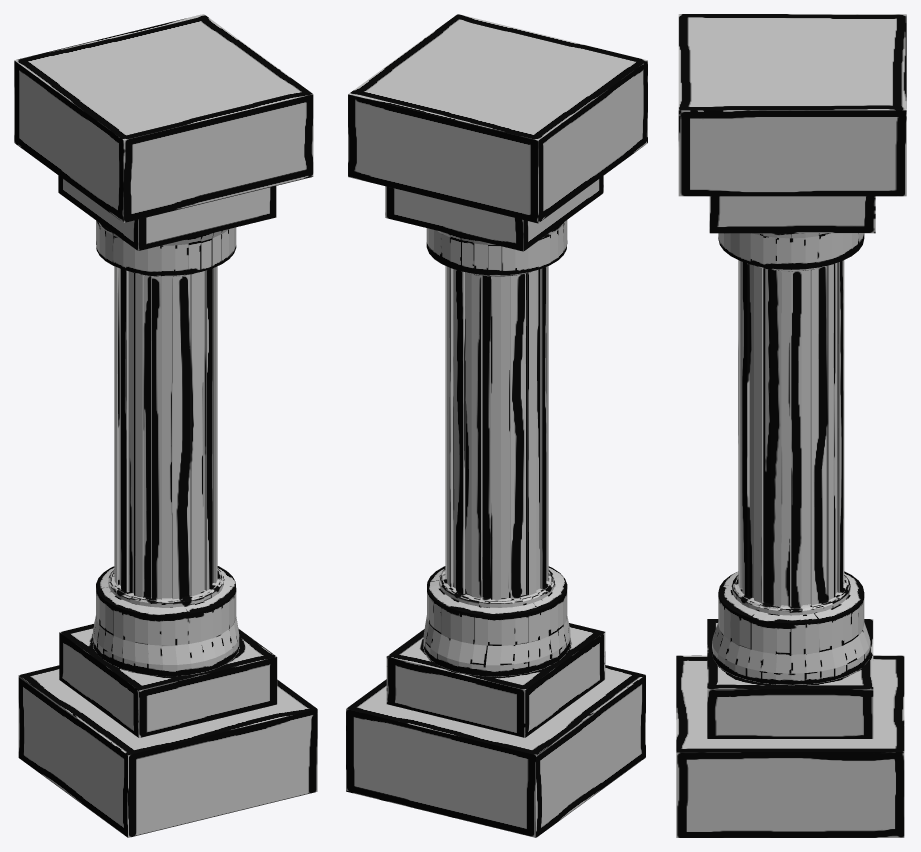
The model's file is HANA_pillar1.glb.
The picture shows the model from 3 angles, left to right: view 1: azimuth 30°, elevation 25°; view 2: azimuth 150°, elevation 25°; view 3: azimuth 270°, elevation 25°; orthographic projection. The views are drawn at different scales.
Parts seen in each view (by area): view 1: Cube.001; view 2: Cube.001; view 3: Cube.001.
Boxes of the visible parts, x1,y1,x2,y2 form: Cube.001: (14, 14, 317, 837); Cube.001: (346, 14, 647, 837); Cube.001: (676, 14, 906, 837).
Size of the model in its own units: 2.03 by 7.03 by 2.02.
1 material, 1 textured.
